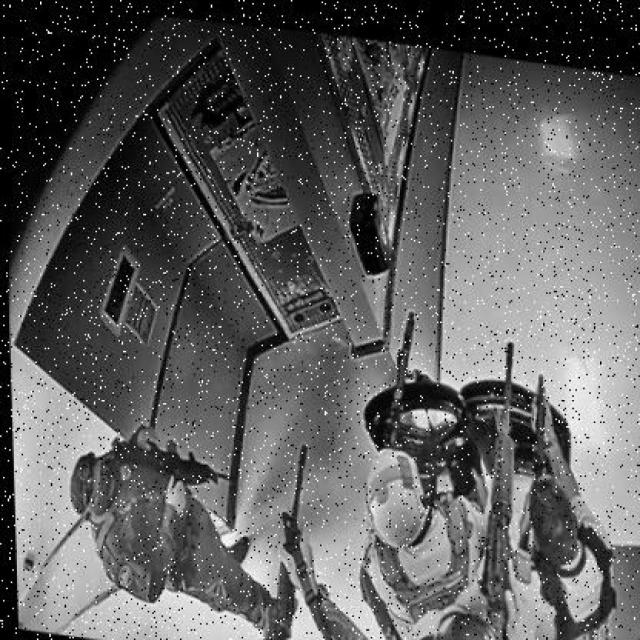weapon: (478, 342, 516, 616), (266, 446, 308, 638), (515, 374, 545, 583), (377, 311, 415, 455)
